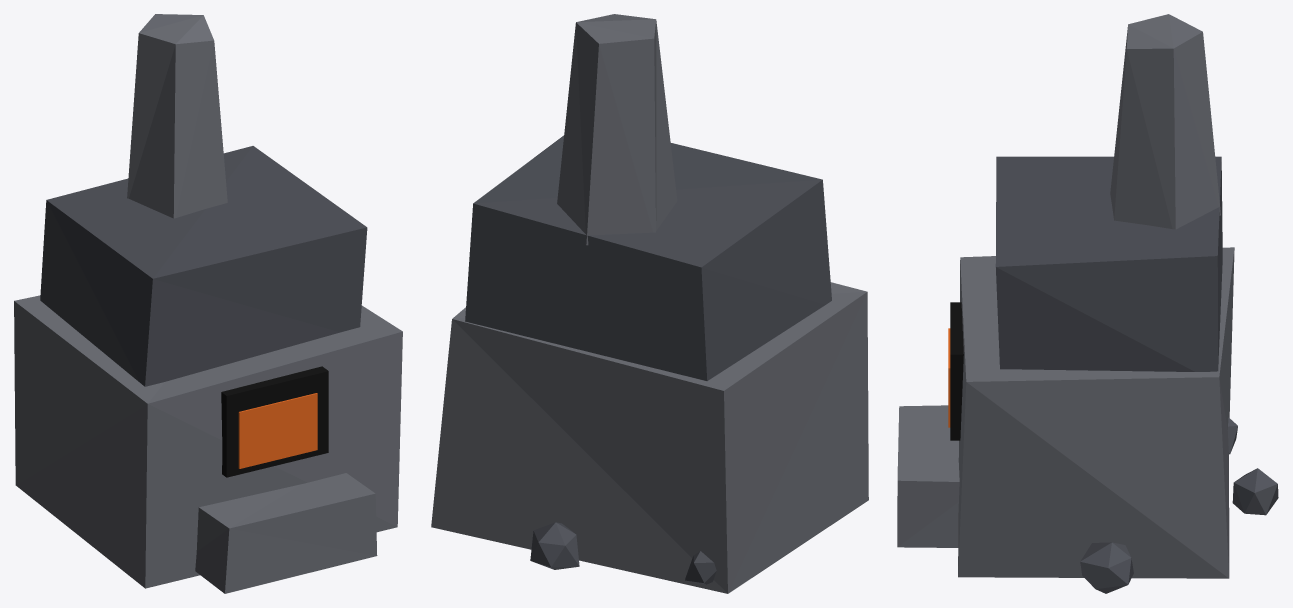
File: Forge.obj
3 renders of one model, left to right at view 1: azimuth 30°, elevation 25°; view 2: azimuth 150°, elevation 25°; view 3: azimuth 270°, elevation 25°, orthographic. The views are drawn at different scales.
Parts seen in each view (by area): view 1: Forge; view 2: Forge; view 3: Forge.
Part boxes in pixels (box(x1,y1,x2,y2)): Forge: box(14, 14, 402, 593); Forge: box(431, 14, 868, 593); Forge: box(897, 14, 1278, 593).
Size of the model in its own units: 3.56 by 5.13 by 3.66.
